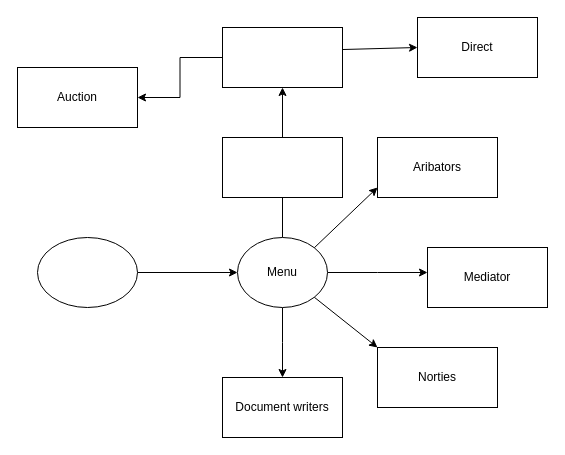
This 565x455 diagram has some shape labels left out. Here are the shapes that lost their labels. From the top down, the centre of each, then its label:
At [282,57]: "Advocate".
At [282,167]: "Catogary by cities".
At [87,272]: "Home".
